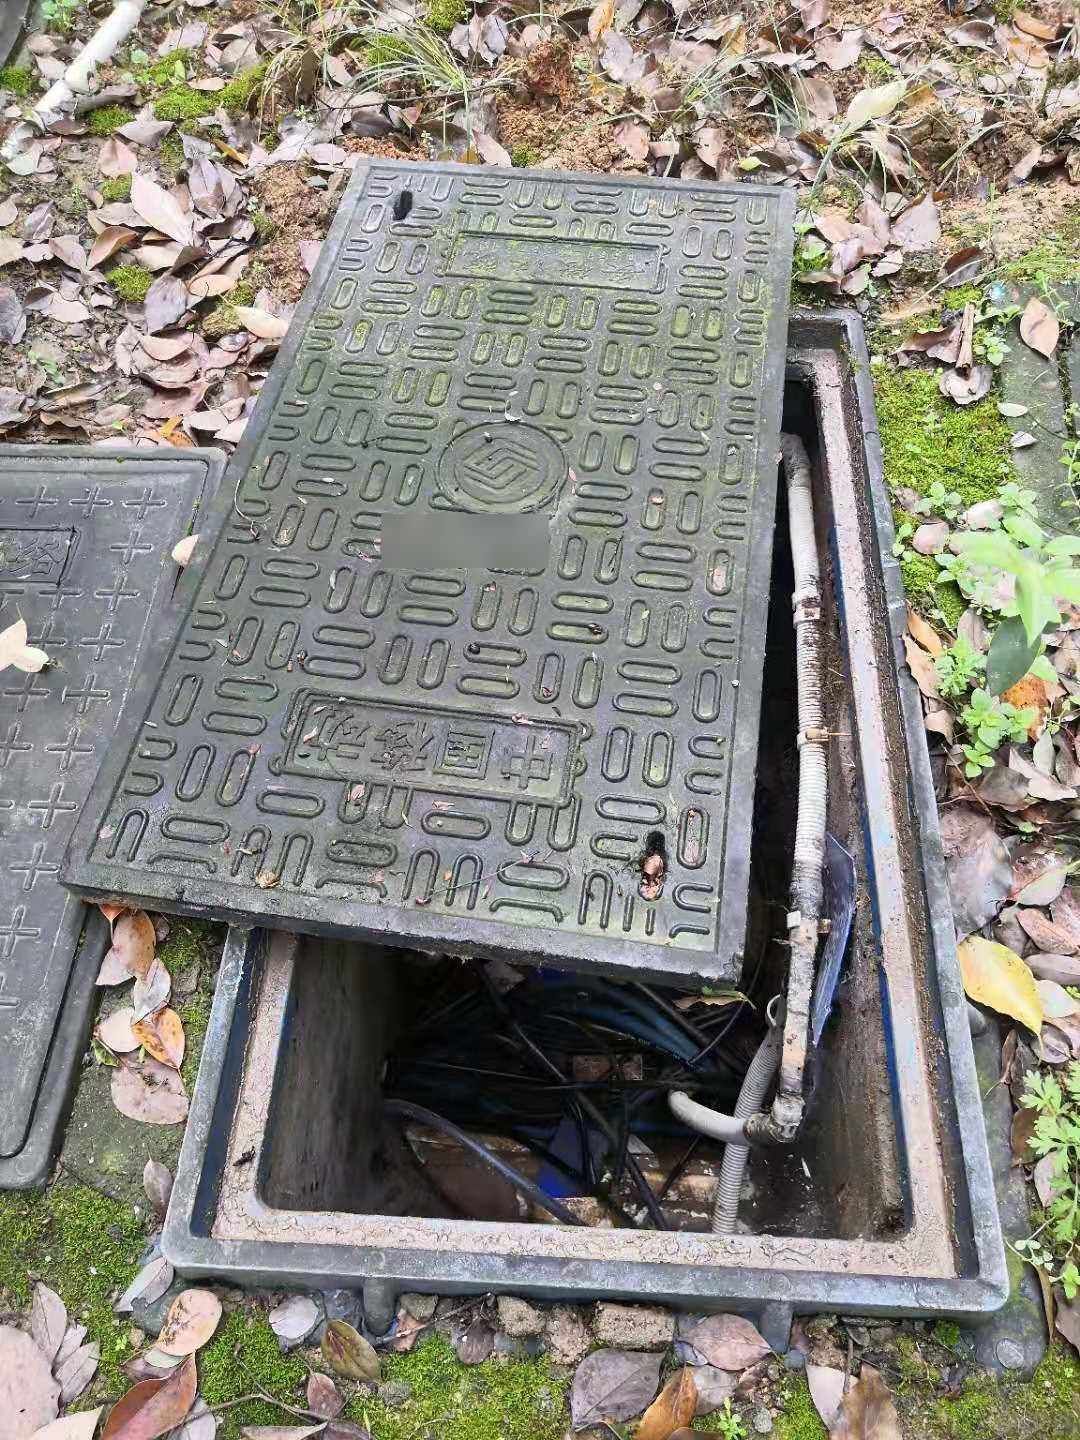uncovered: (75, 150, 1036, 1380)
